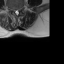CCS_normal: (15, 7, 17, 15)
LFS_normal: (19, 6, 21, 12)
LLS_stenosis: (17, 8, 19, 15)
RFS_stenosis: (12, 7, 14, 12)
RLS_stenosis: (14, 7, 16, 14)
